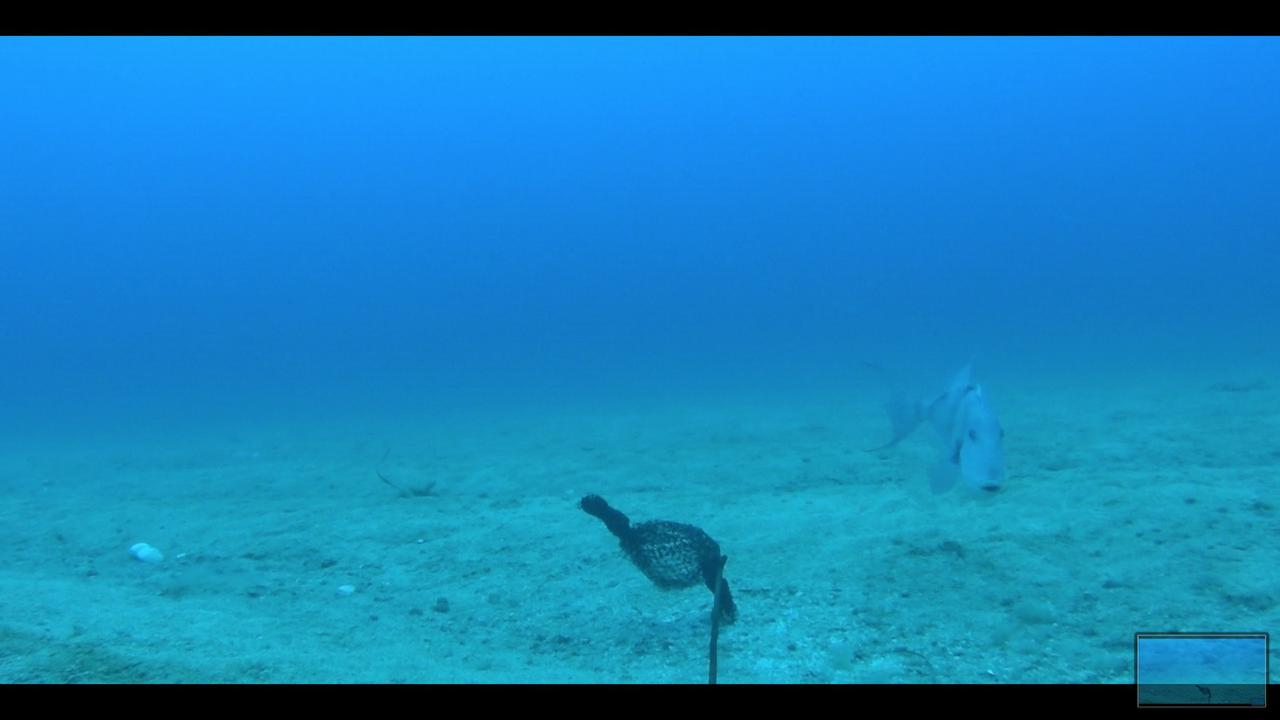balistes: (852, 358, 1016, 500)
